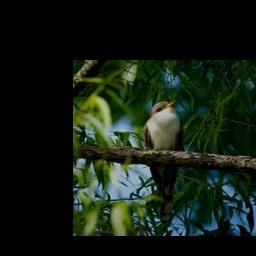Cuckoo: (143, 100, 182, 224)
